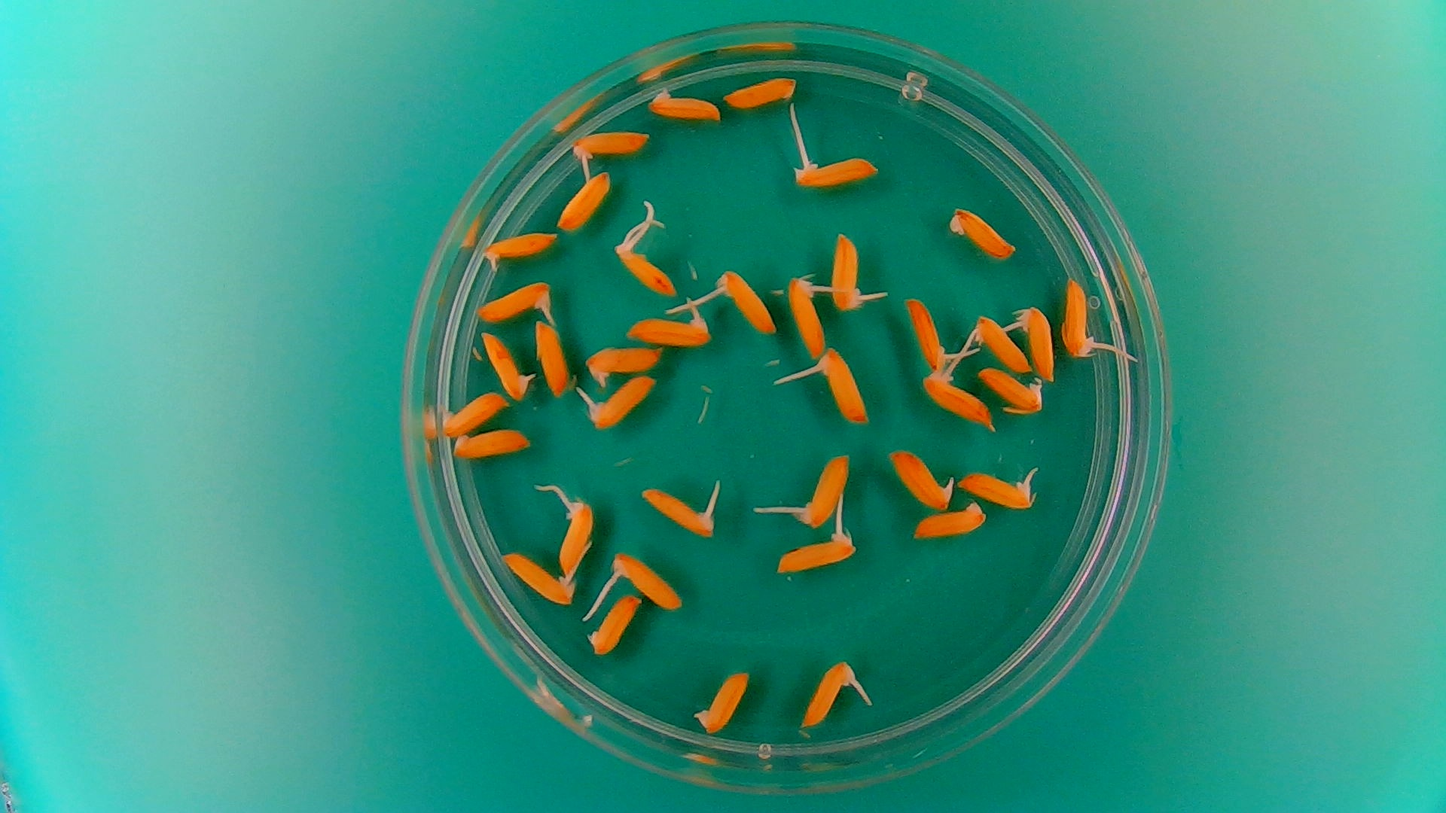no: (691, 666, 752, 738), (946, 202, 1018, 258), (586, 592, 642, 657), (556, 169, 613, 230), (646, 84, 724, 125), (910, 500, 987, 541), (533, 318, 571, 399), (450, 426, 532, 461), (721, 75, 798, 109)
yes: (810, 344, 871, 427), (581, 370, 660, 432), (918, 367, 997, 429), (828, 229, 883, 315), (771, 520, 858, 574), (611, 551, 686, 613), (497, 555, 584, 607), (883, 449, 953, 510), (717, 268, 779, 336), (636, 489, 719, 539), (904, 294, 957, 372), (478, 327, 533, 402), (782, 270, 828, 359), (798, 451, 851, 528), (473, 276, 557, 324), (969, 312, 1034, 374), (611, 240, 681, 296), (800, 659, 856, 729), (581, 340, 663, 385), (567, 126, 652, 168), (479, 227, 560, 271), (624, 309, 712, 349), (438, 388, 510, 436), (551, 500, 595, 577), (1014, 302, 1057, 379), (974, 367, 1045, 413), (956, 472, 1039, 509), (1060, 276, 1096, 361), (794, 157, 874, 188)
